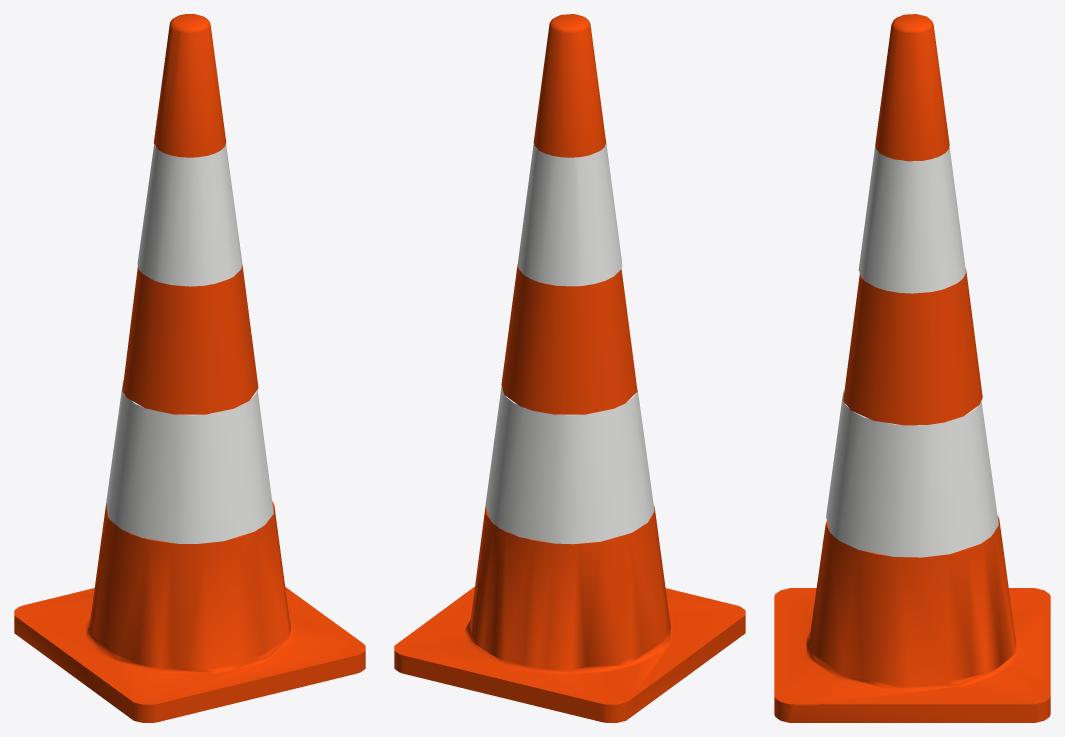
3 renders of one model, left to right at view 1: azimuth 30°, elevation 25°; view 2: azimuth 150°, elevation 25°; view 3: azimuth 270°, elevation 25°, orthographic. The views are drawn at different scales.
Visible parts, largest first — view 1: OrangeCone v3; view 2: OrangeCone v3; view 3: OrangeCone v3.
Boxes of the visible parts, left/top/right/bottom form: OrangeCone v3: left=14, top=14, right=365, bottom=722; OrangeCone v3: left=394, top=14, right=745, bottom=722; OrangeCone v3: left=774, top=14, right=1050, bottom=722.
Size of the model in its own units: 0.2 by 0.2 by 0.5148.
